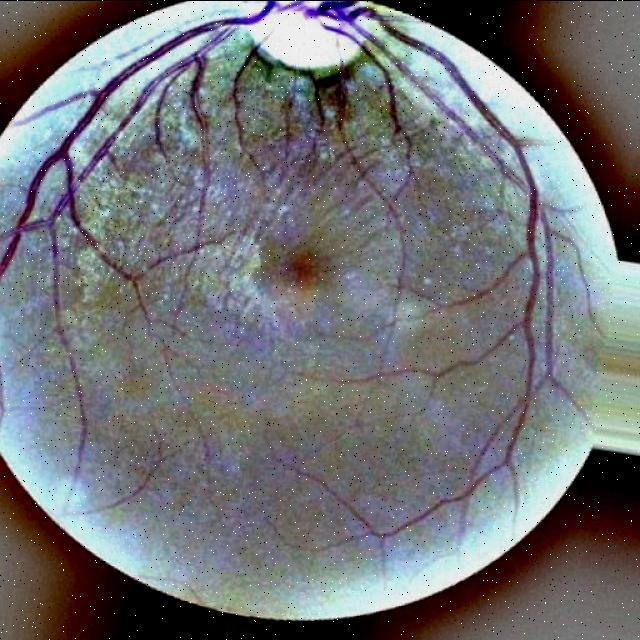Macula: (282, 250, 328, 292)
Nerves: (0, 1, 410, 276), (390, 30, 538, 234), (419, 86, 518, 181), (304, 62, 350, 152), (230, 35, 269, 118)
Optic Disk: (239, 1, 371, 78)
